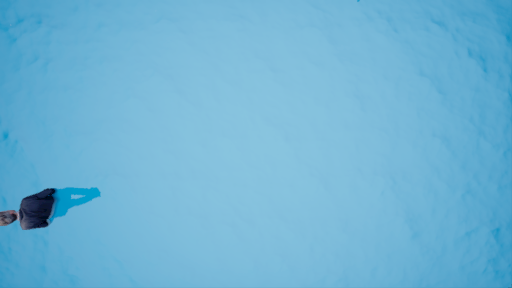person: (1, 186, 111, 235)
